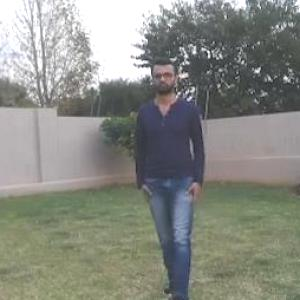follow: (143, 63, 207, 287)
